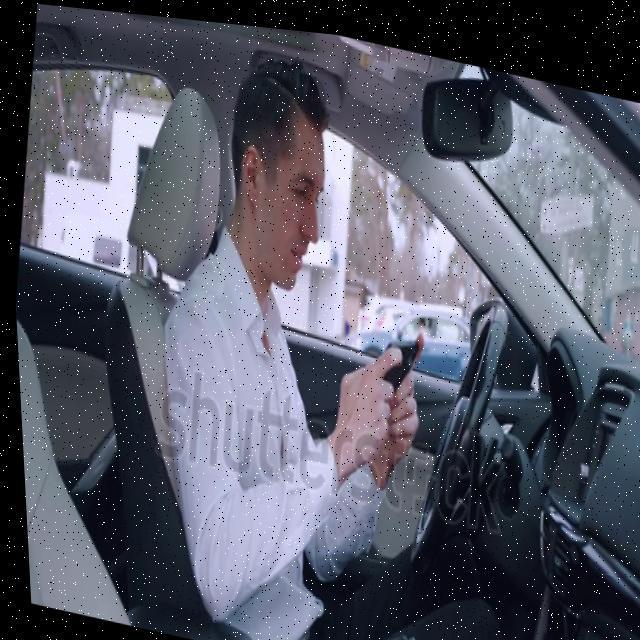PhoneCall: (367, 323, 417, 402)
